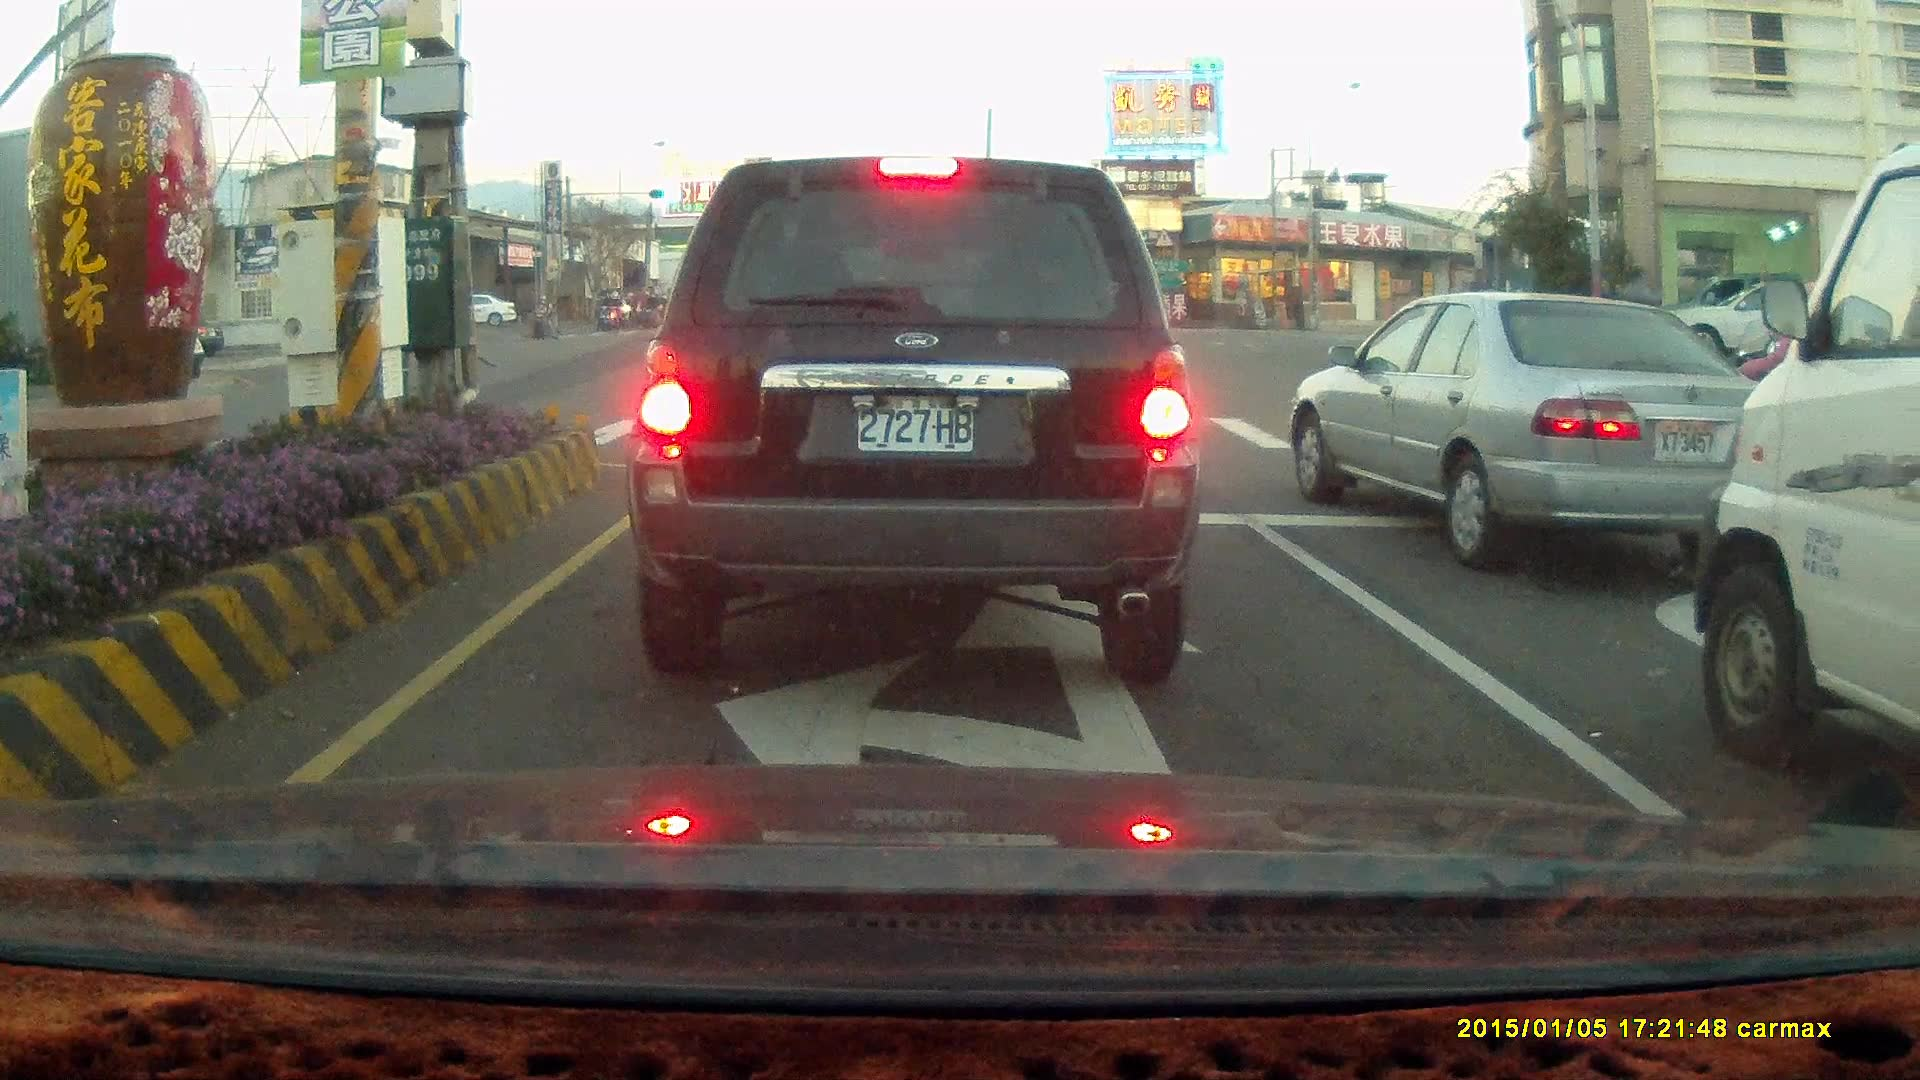rider: (526, 288, 557, 339), (591, 289, 612, 330), (638, 289, 659, 326), (602, 293, 623, 328)
vehicle: (623, 154, 1201, 686), (1690, 122, 1920, 788), (1287, 292, 1803, 574), (1296, 289, 1774, 565), (1649, 273, 1862, 375), (1668, 275, 1823, 373), (448, 295, 519, 329)
